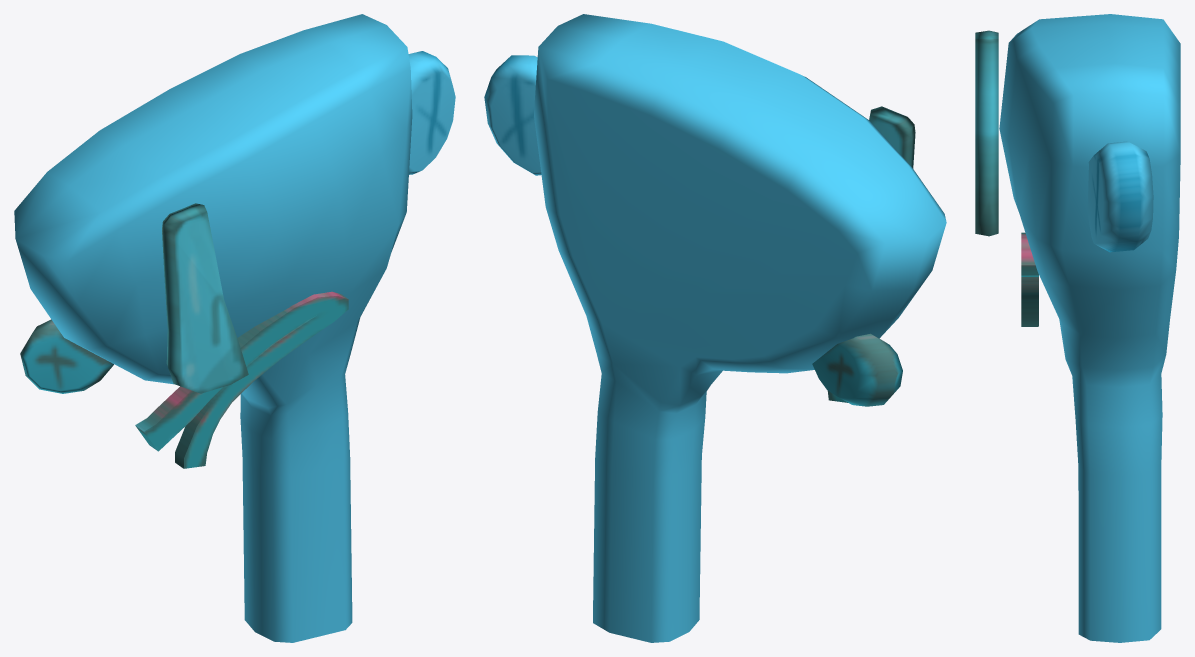
Rendered from Head_Nohair.fbx.
3 views of the same model, side by side, from view 1: azimuth 30°, elevation 25°; view 2: azimuth 150°, elevation 25°; view 3: azimuth 270°, elevation 25° (orthographic).
Parts seen in each view (by area): view 1: Head; view 2: Head; view 3: Head.
Part boxes in pixels (x1,y1,x2,y2): Head: [14, 14, 455, 642]; Head: [484, 14, 946, 642]; Head: [975, 14, 1180, 642].
Size of the model in its own units: 31.12 by 38.99 by 12.67.
